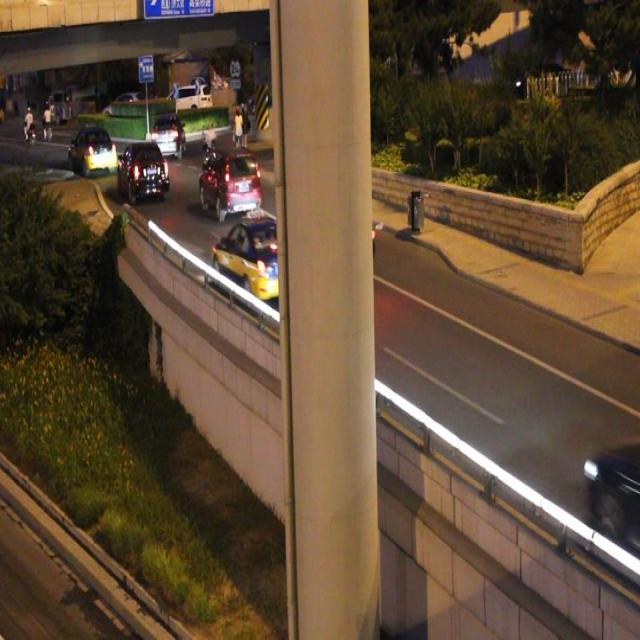car: (210, 208, 298, 306), (290, 184, 373, 268), (199, 144, 261, 217), (115, 140, 169, 201)
